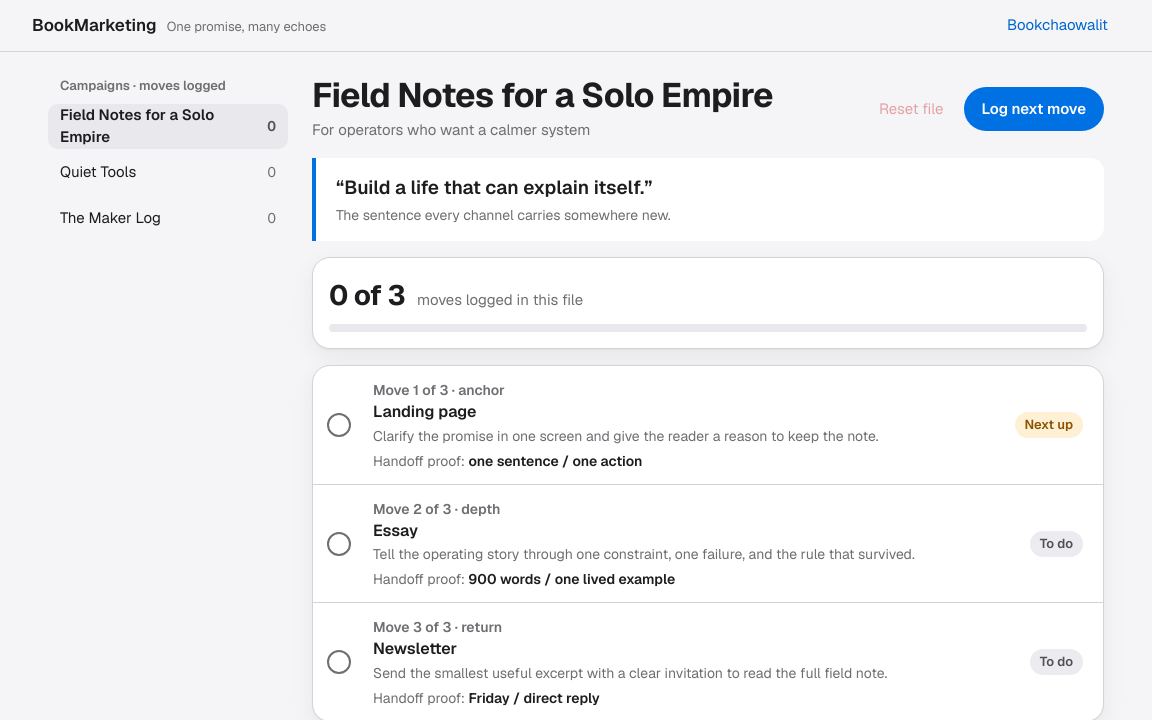
batch Undo › keyboard remove focuses Undo; Undo returns to Reset file, Escape to Log next move
Click the button "Log next move" at point(1034, 109), box [964,87,1104,131]
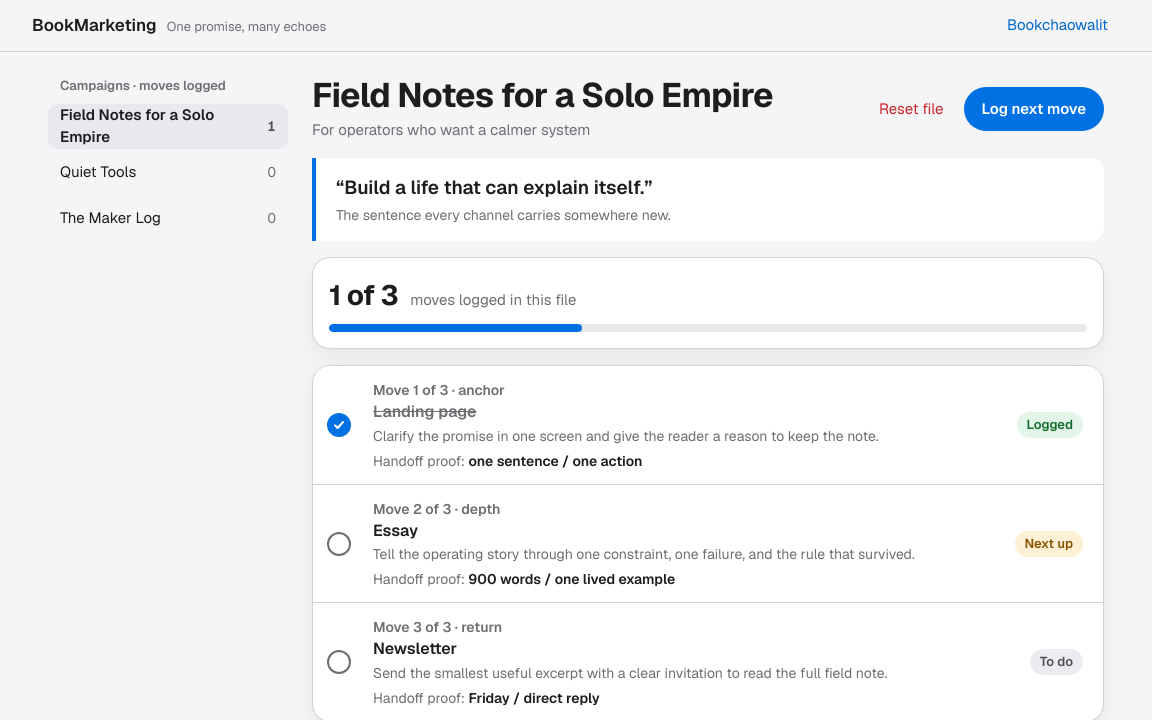
Click the button "Reset file" at point(911, 109), box [867,87,956,131]
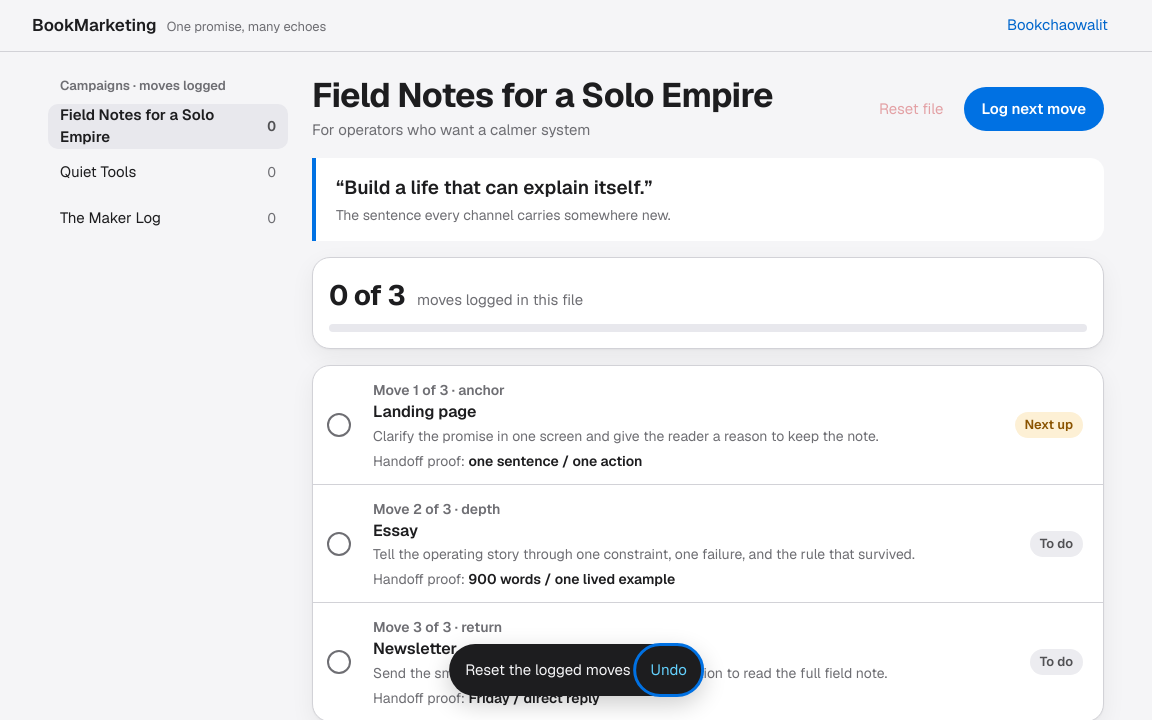
Click the button "Undo" at point(669, 670), box [639,648,699,692]
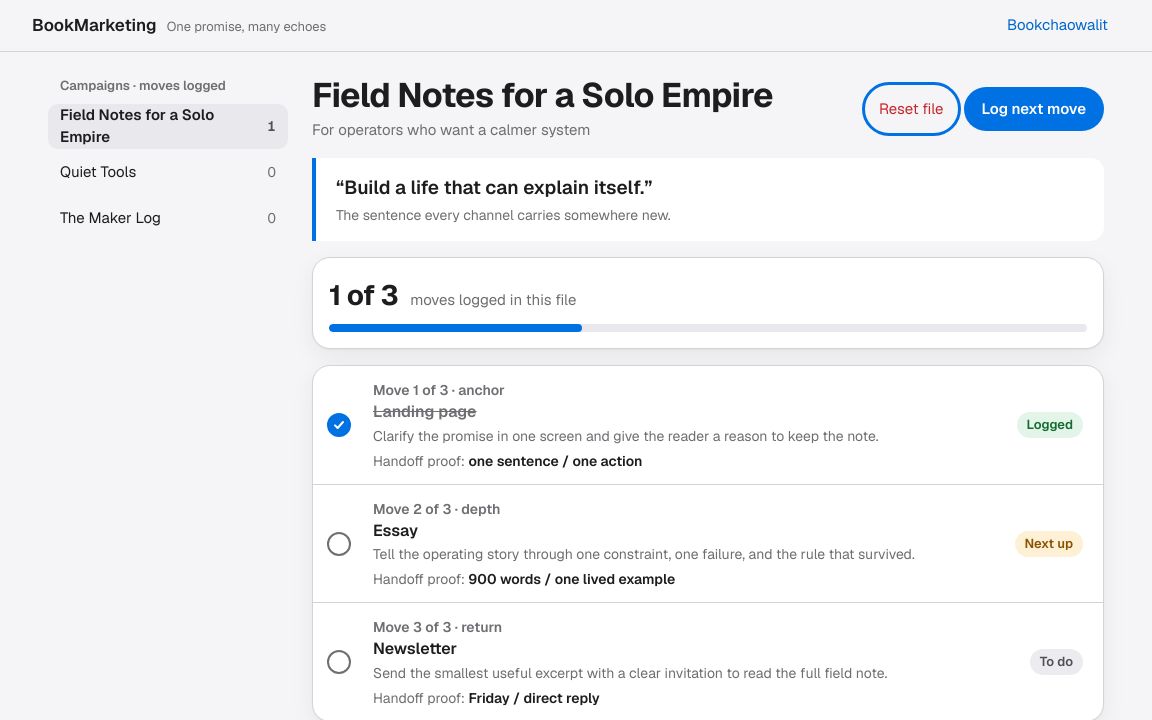
Click the button "Reset file" at point(911, 109), box [867,87,956,131]
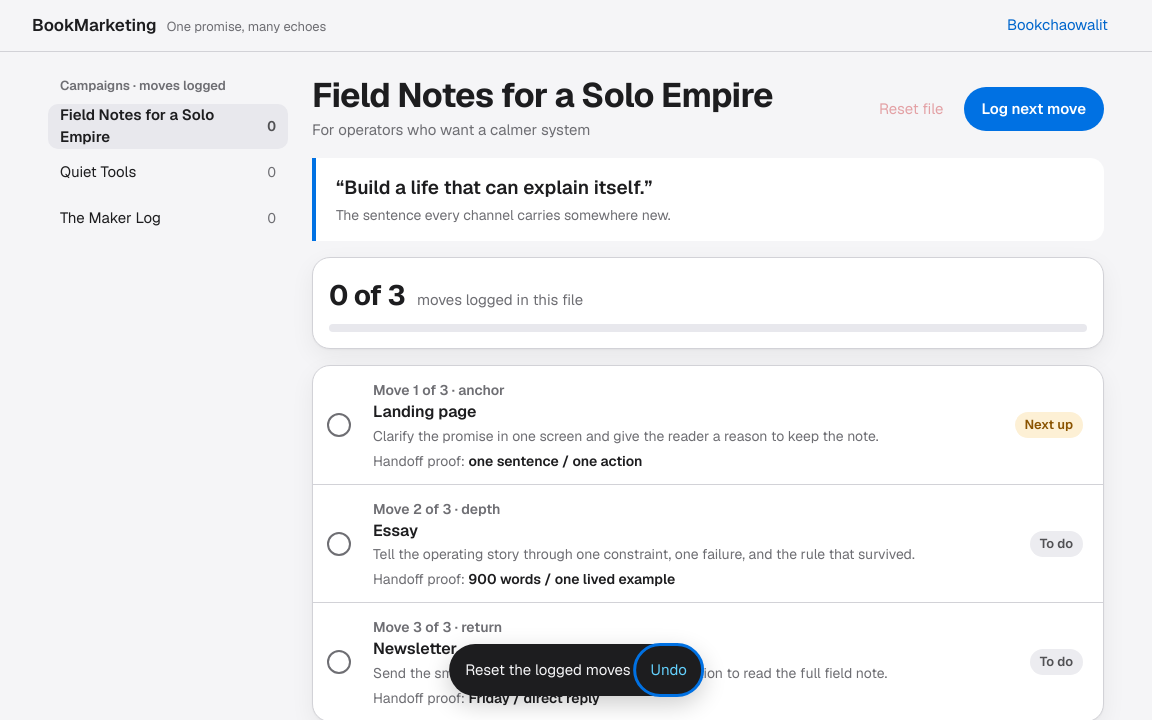
Press Escape in the element with class "as-toast", box [449,644,703,696]
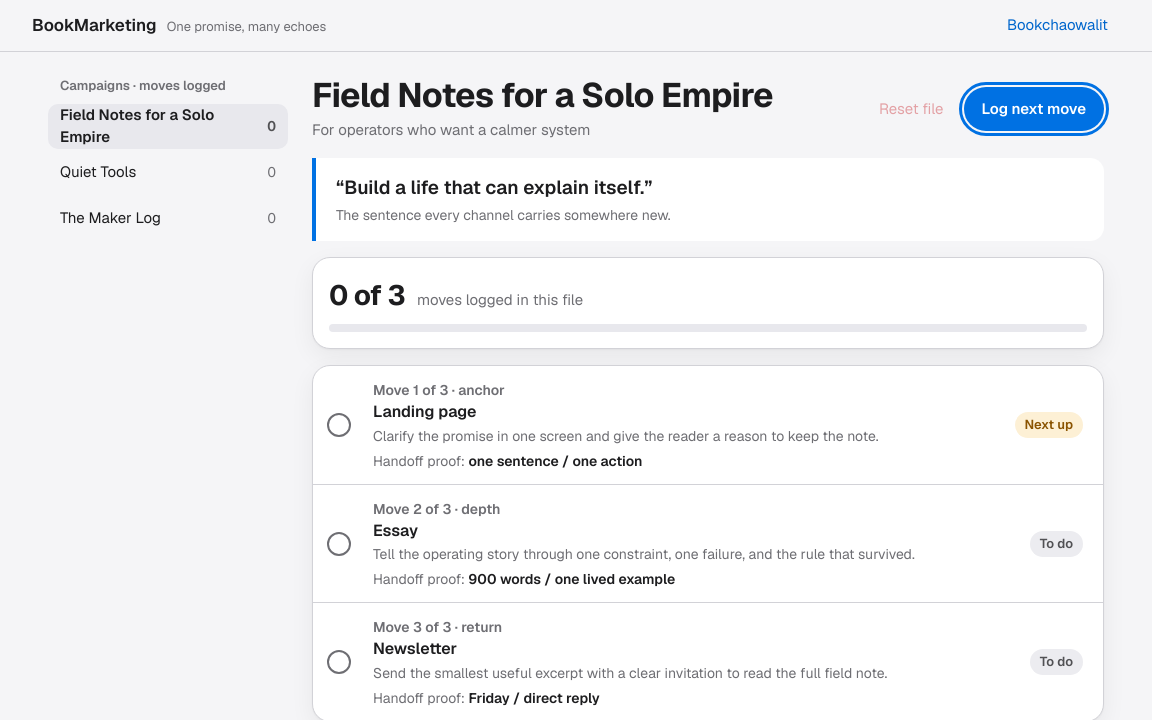
Result: the element with class "as-toast" is gone
